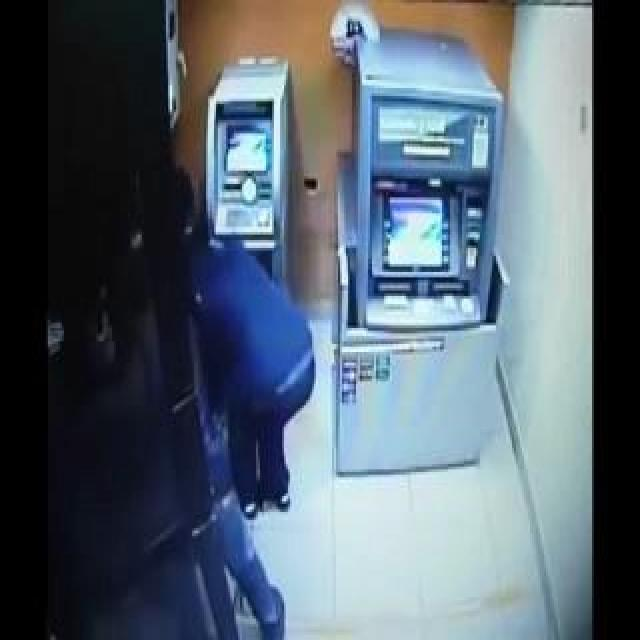thief: (198, 198, 239, 336)
